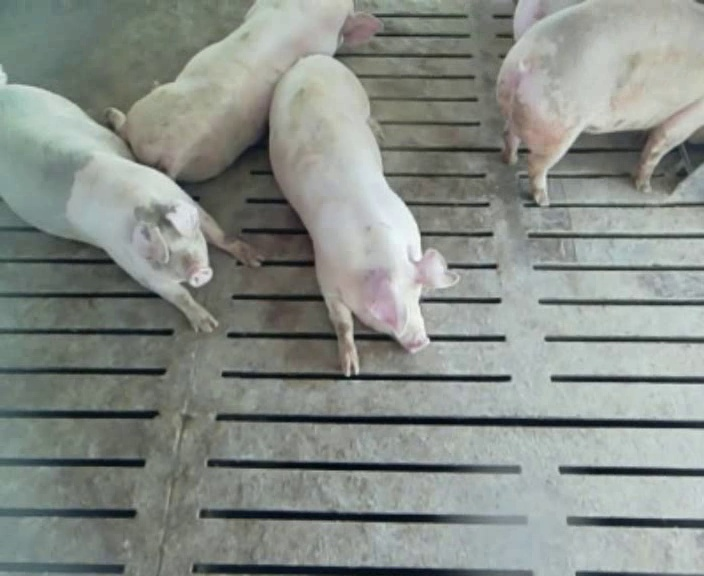pig: (269, 55, 458, 375), (107, 2, 383, 178)
